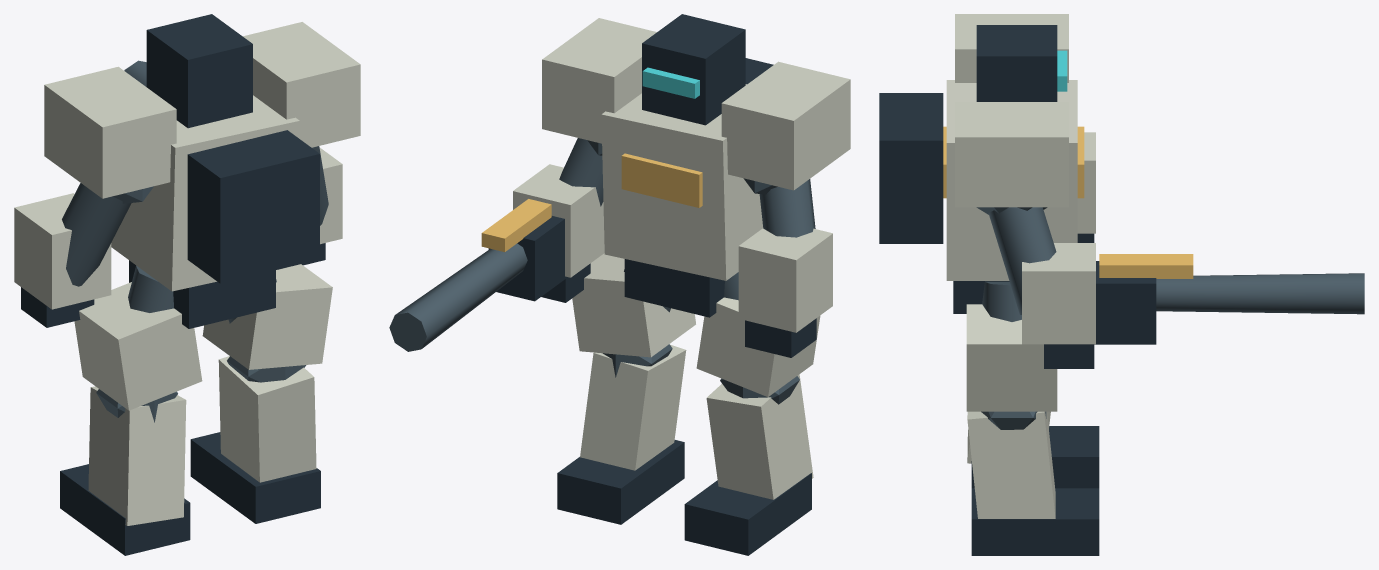
Rendered from unit-infantry.glb.
3 renders of one model, left to right at view 1: azimuth 30°, elevation 25°; view 2: azimuth 150°, elevation 25°; view 3: azimuth 270°, elevation 25°, orthographic. The views are drawn at different scales.
Parts seen in each view (by area): view 1: unit-infantry; view 2: unit-infantry; view 3: unit-infantry.
Boxes of the visible parts, bbox=[...] form: unit-infantry: bbox=[14, 14, 360, 555]; unit-infantry: bbox=[389, 14, 850, 555]; unit-infantry: bbox=[879, 14, 1364, 555].
Bounding box in the file's own units: 0.98 × 1.54 × 1.44.
